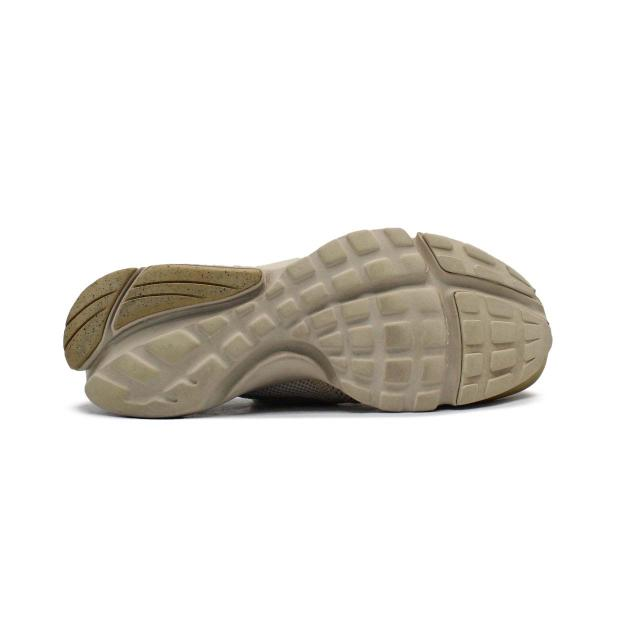outersole: (70, 226, 560, 413)
